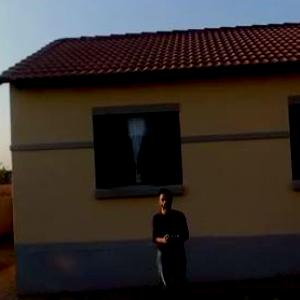follow: (149, 179, 198, 299)
